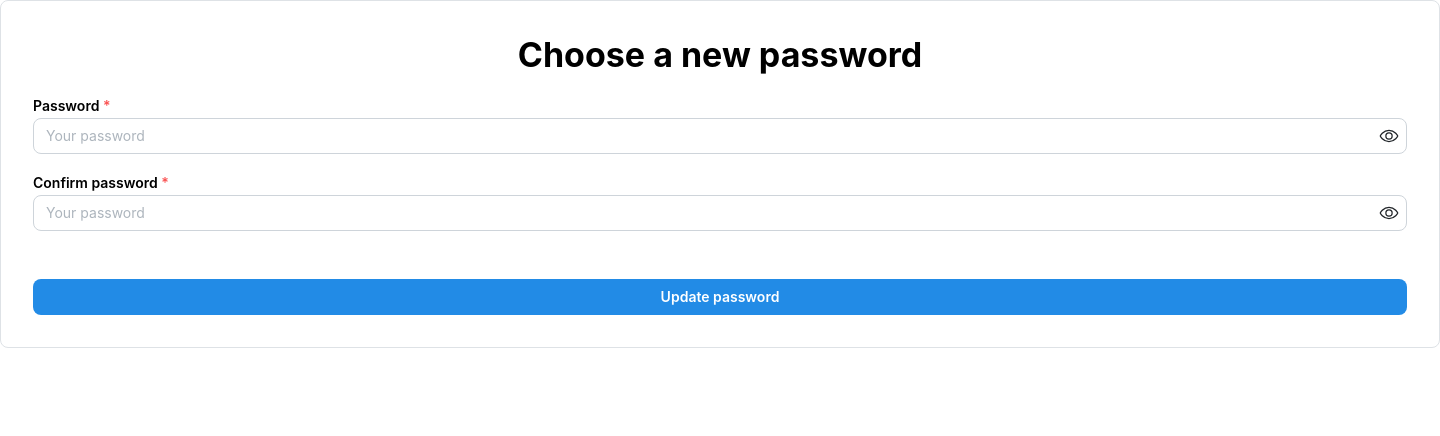
Test: ResetPassword › shows the same invalid-token error for a bad link
The width and height of the screenshot is (1440, 436).
In the password field labelled "Password *": x=720, y=136 [34,119,1406,153], type "correct-horse"
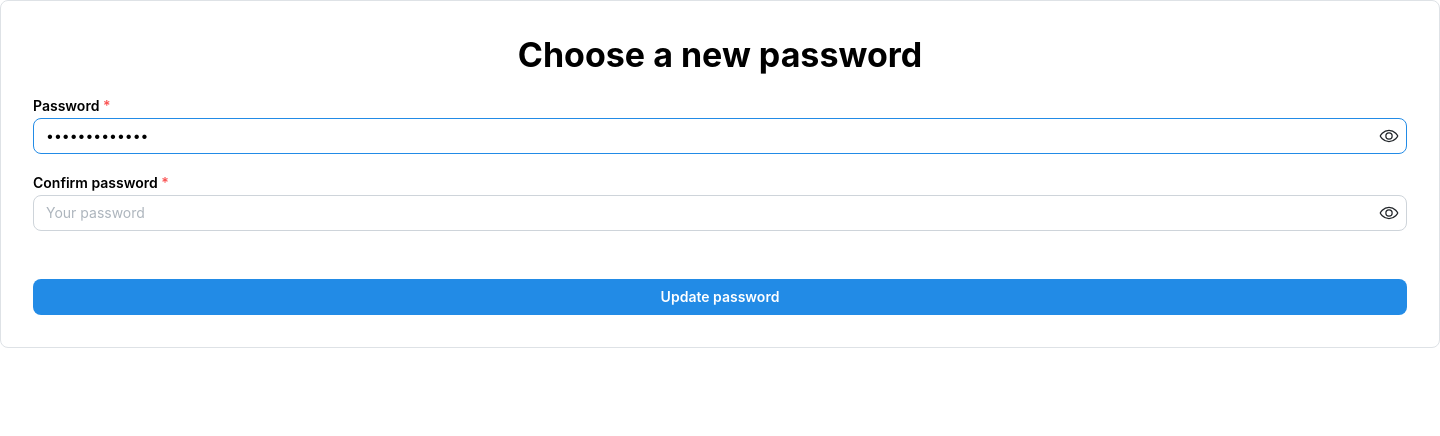
In the password field labelled "Confirm password *": x=720, y=213 [34,196,1406,230], type "correct-horse"
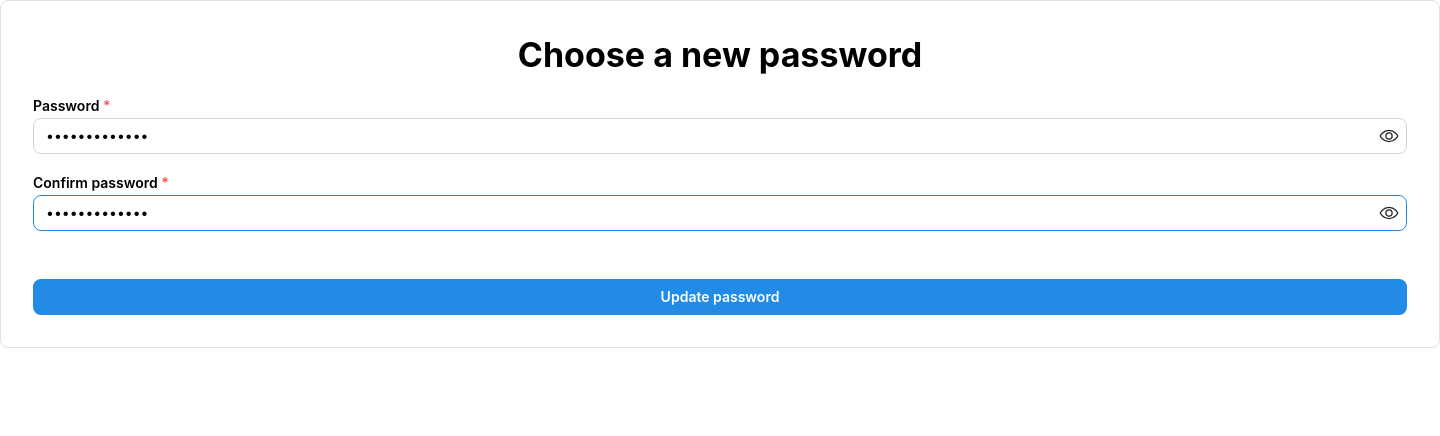
Click the button "Update password": x=720, y=297 [33,279,1407,315]
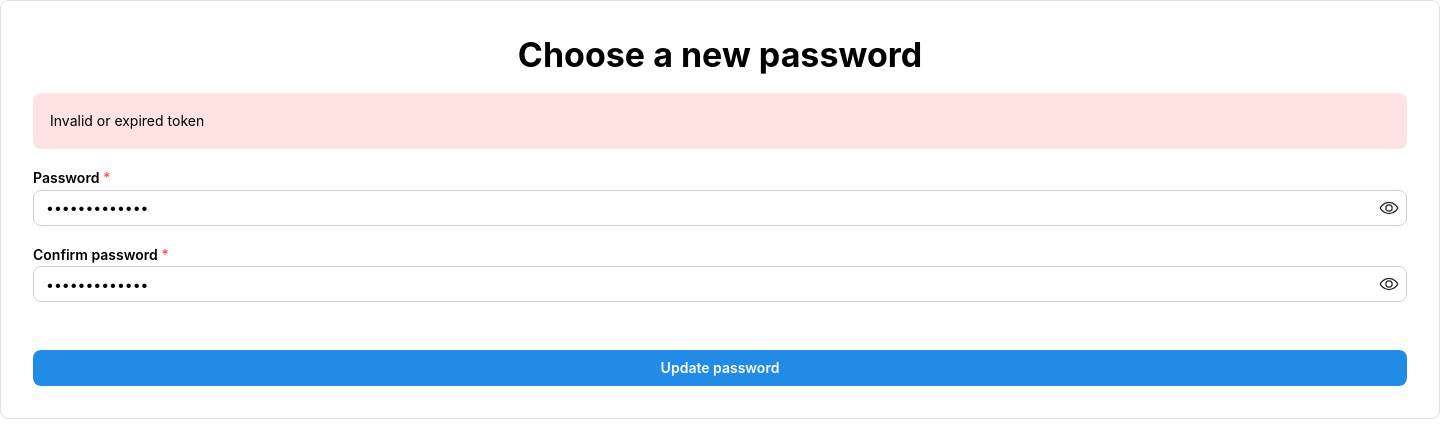
Expected: the message reads "Invalid or expired token", [50,112,204,129]
